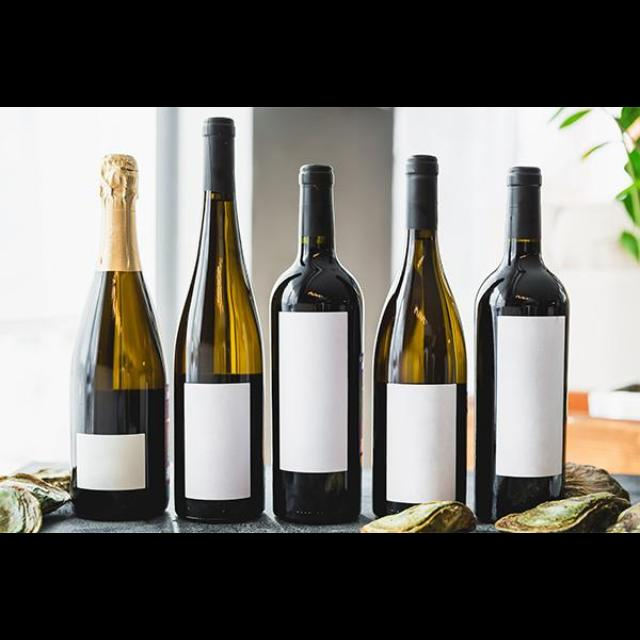garrafa de vidro: (172, 116, 268, 524), (372, 155, 470, 521), (269, 162, 367, 526), (472, 164, 570, 526), (70, 153, 166, 522)
